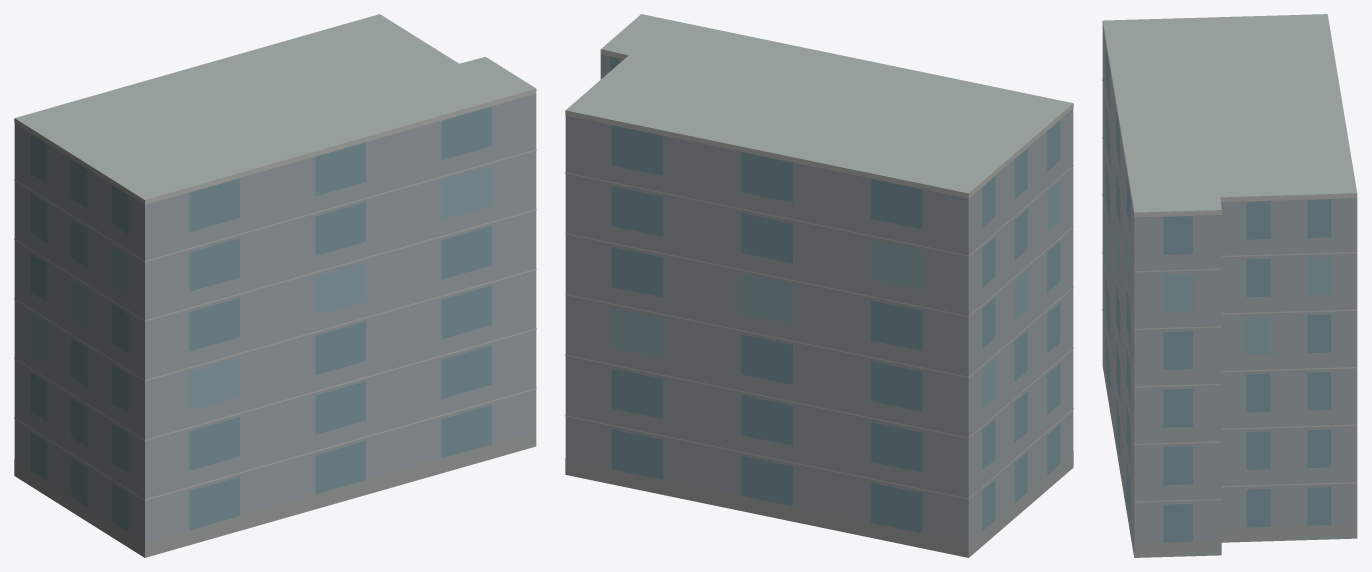
The model's file is survey-upis-32701658.glb.
3 views of the same model, side by side, from view 1: azimuth 30°, elevation 25°; view 2: azimuth 150°, elevation 25°; view 3: azimuth 270°, elevation 25° (orthographic). The views are drawn at different scales.
Visible parts, largest first — view 1: survey-upis-32701658.tmp; view 2: survey-upis-32701658.tmp; view 3: survey-upis-32701658.tmp.
Part boxes in pixels (x1=…): survey-upis-32701658.tmp: x1=14, y1=14, x2=536, y2=557; survey-upis-32701658.tmp: x1=565, y1=14, x2=1073, y2=557; survey-upis-32701658.tmp: x1=1102, y1=14, x2=1357, y2=557.
Bounding box in the file's own units: 21.61 × 17.5 × 11.72.
